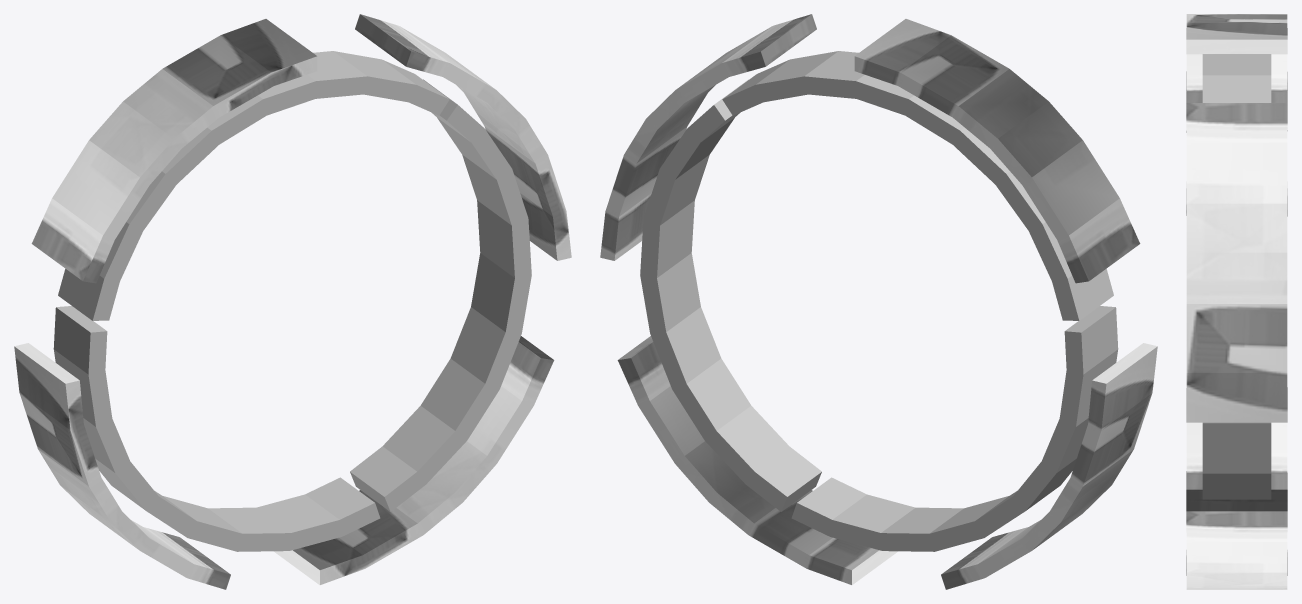
The model's file is Portal 1.FBX.
3 renders of one model, left to right at view 1: azimuth 30°, elevation 25°; view 2: azimuth 150°, elevation 25°; view 3: azimuth 270°, elevation 25°, orthographic.
Parts seen in each view (by area): view 1: Circle021s, Object756; view 2: Circle021s, Object756; view 3: Circle021s, Object756.
Boxes of the visible parts, <box> form: Circle021s: <box>14,14,571,589</box>; Object756: <box>53,51,531,551</box>; Circle021s: <box>600,14,1157,589</box>; Object756: <box>640,51,1118,551</box>; Circle021s: <box>1186,14,1287,589</box>; Object756: <box>1202,54,1271,499</box>.
Bounding box in the file's own units: 898 × 898 × 158.
